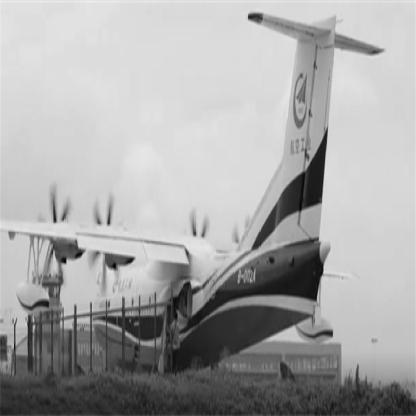AG600: (1, 12, 387, 376)
